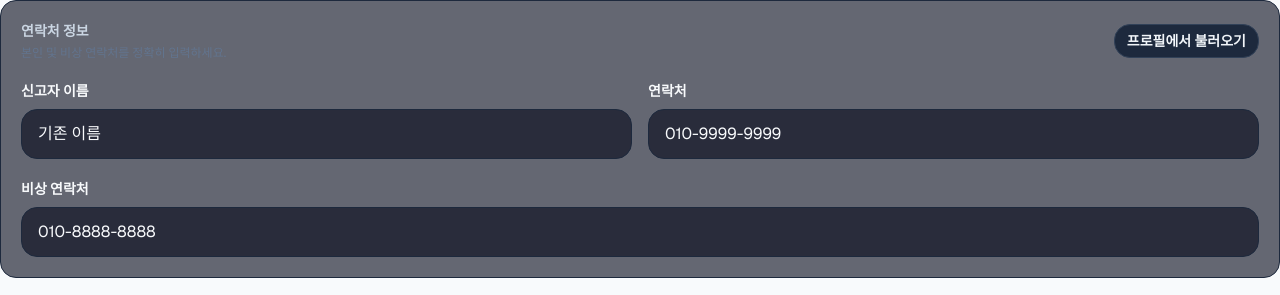
Test case: ContactForm › applies profile data again when the user clicks the fill button
The image size is (1280, 295).
Step 1. Click the button with test id "apply-profile-contact" → click(1186, 41), box [1114,24,1259,58]
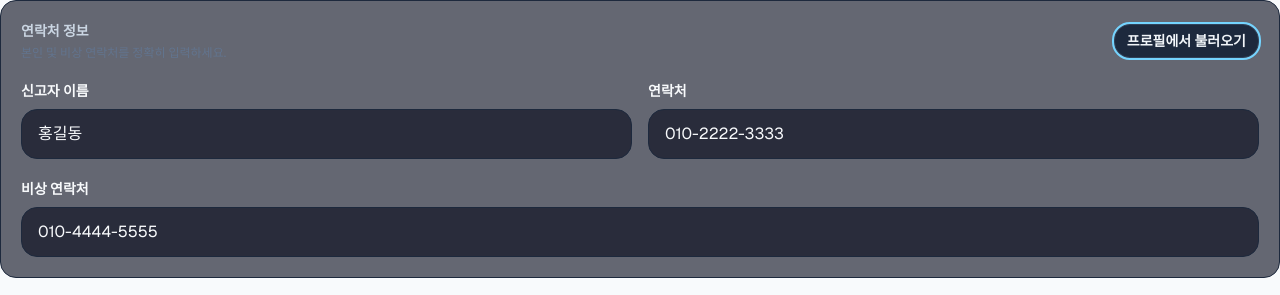
Expected: the field showing "홍길동" is shown, [21,109,632,159]
Result: the field showing "010-2222-3333" is shown at [648,109,1259,159]
Result: the field showing "010-4444-5555" is shown at [21,207,1259,257]
